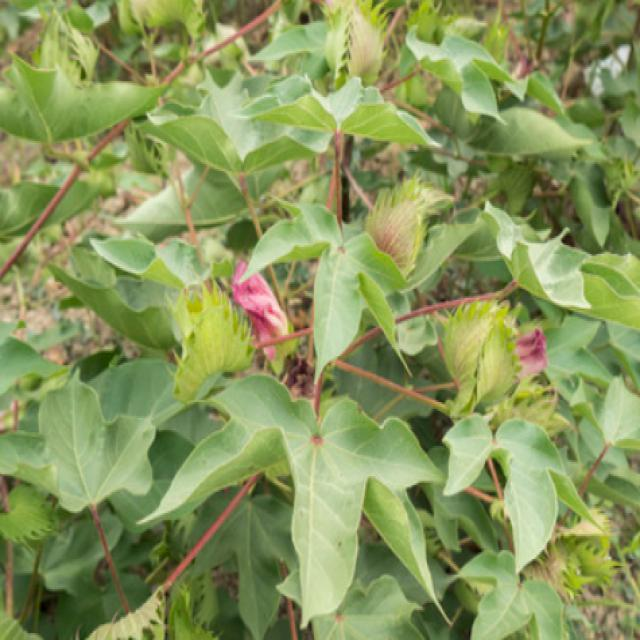Cotton Blossom: (228, 264, 296, 348)
Cotton Bud: (165, 283, 244, 392), (443, 292, 522, 401), (316, 0, 394, 99), (364, 176, 440, 271)
